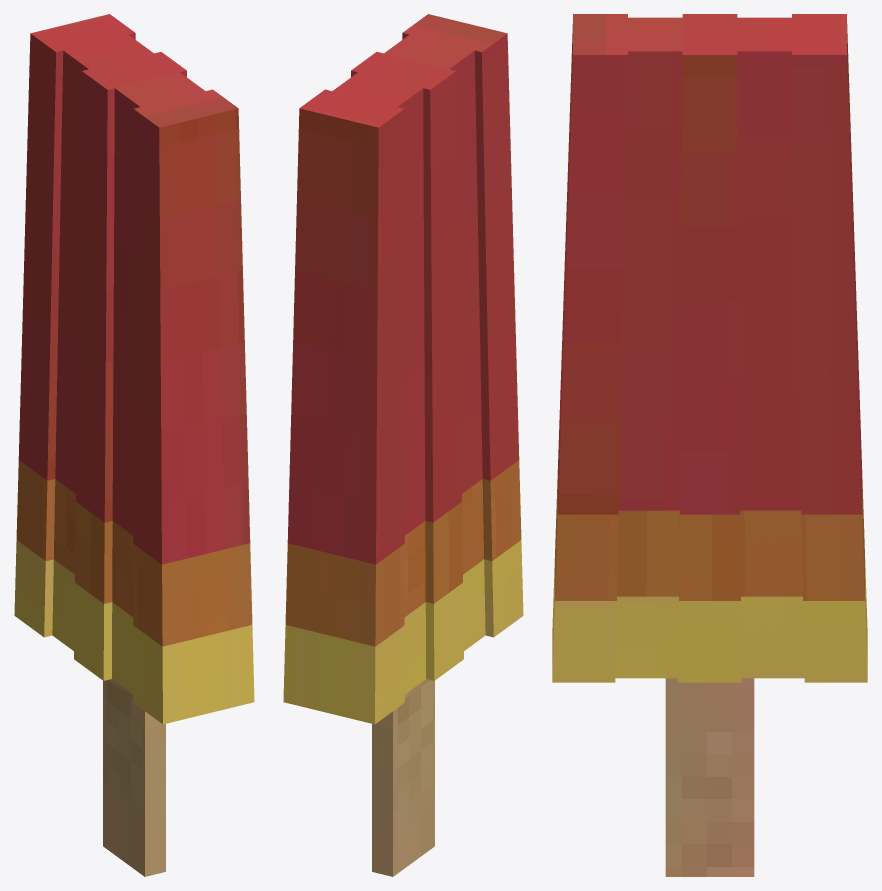
File: paddle.glb
The picture shows the model from 3 angles, left to right: view 1: azimuth 30°, elevation 25°; view 2: azimuth 150°, elevation 25°; view 3: azimuth 270°, elevation 25°; orthographic projection. The views are drawn at different scales.
Parts seen in each view (by area): view 1: Cube.005_Cube.004; view 2: Cube.005_Cube.004; view 3: Cube.005_Cube.004.
Boxes of the visible parts, box(x1,y1,x2,y2) form: Cube.005_Cube.004: box(14, 14, 254, 876); Cube.005_Cube.004: box(283, 14, 523, 876); Cube.005_Cube.004: box(552, 14, 867, 876).
Size of the model in its own units: 0.1556 by 1.28 by 0.4376.
1 material, 1 textured.
